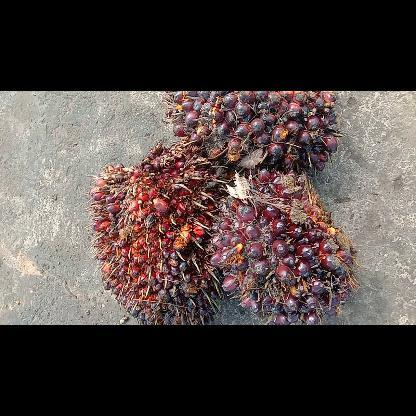Kurang masak: (210, 170, 358, 324), (160, 90, 341, 174)
TBS masak: (87, 142, 228, 324)
